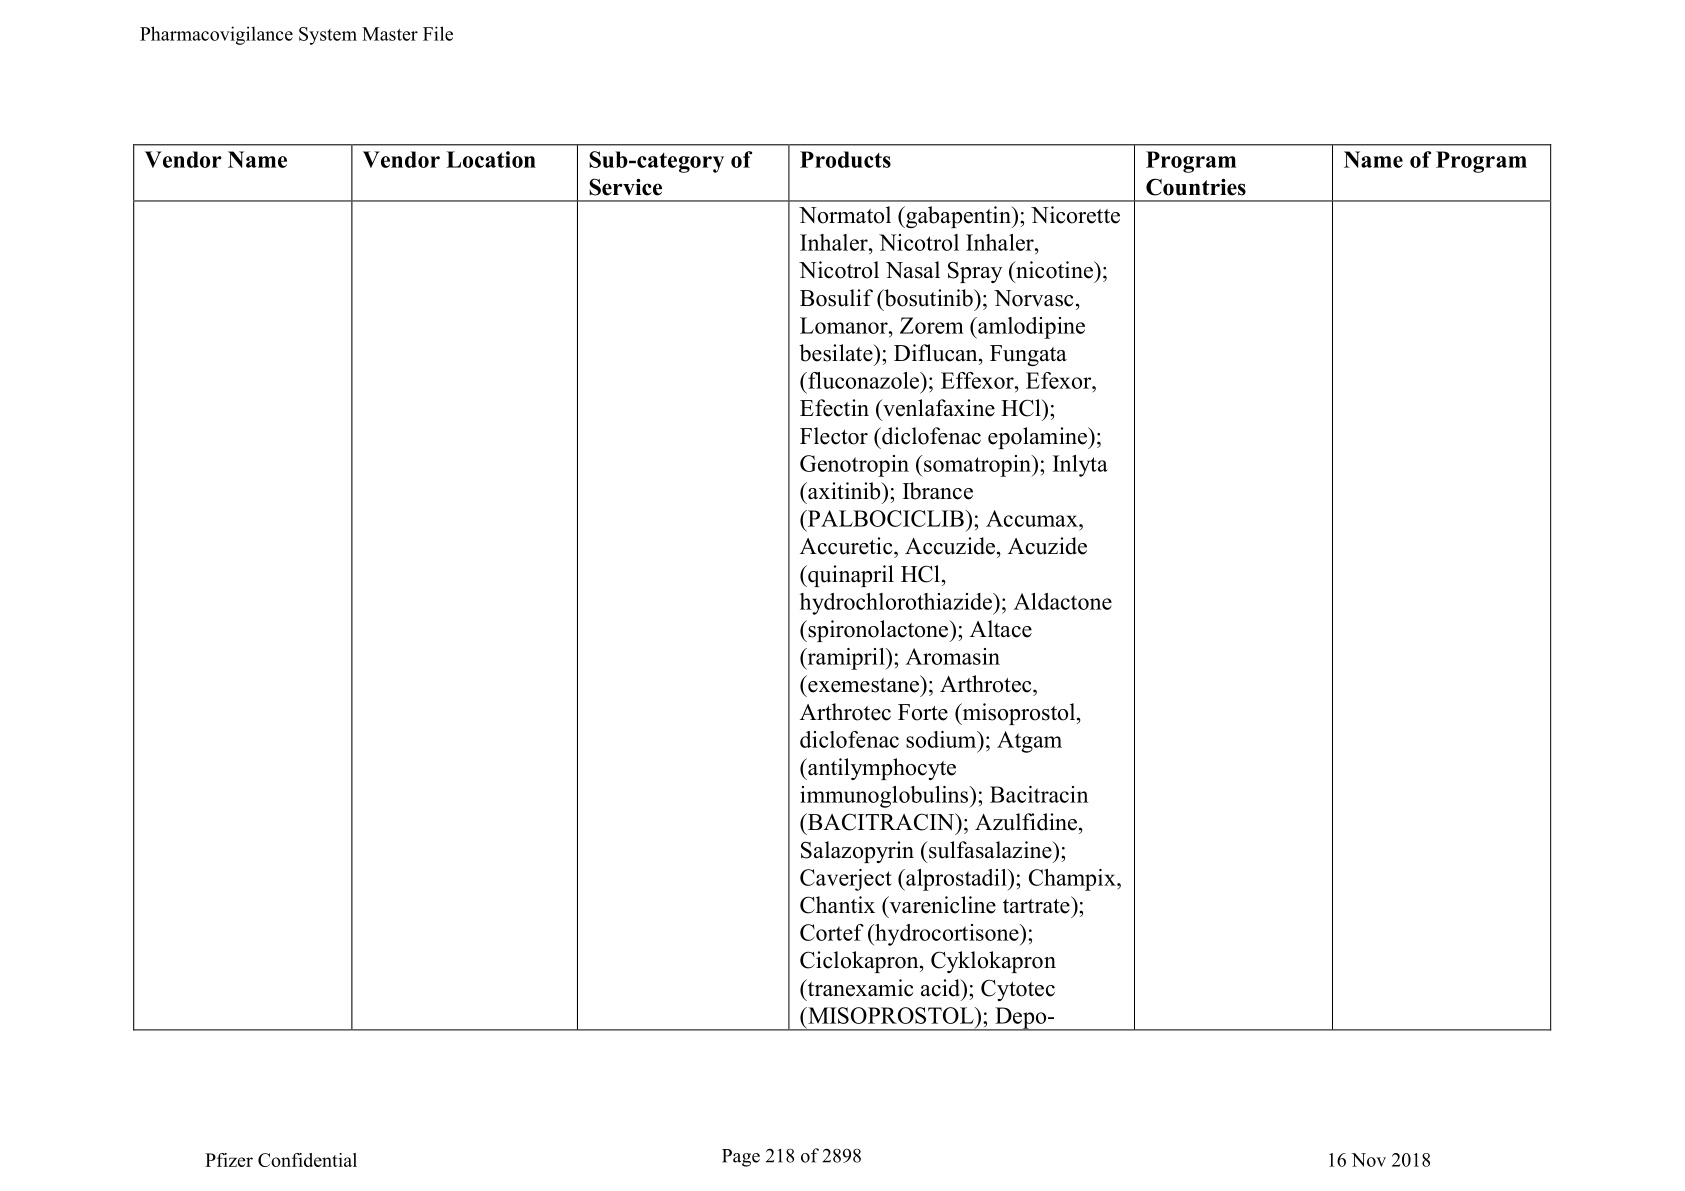full_lined: (133, 144, 1552, 1032)
